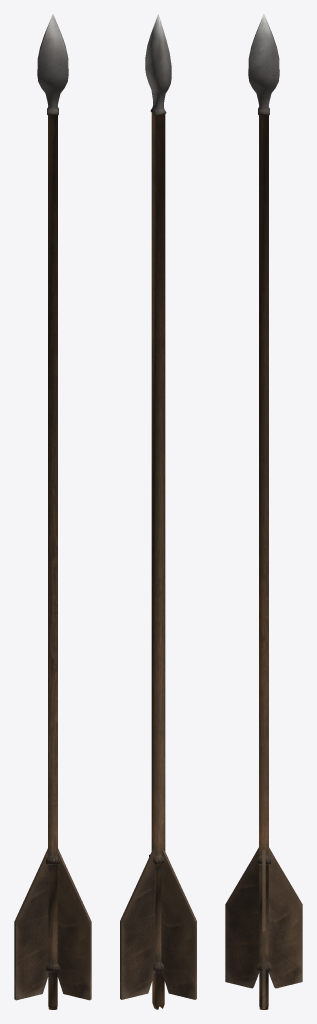
The model's file is Arrow.fbx.
3 renders of one model, left to right at view 1: azimuth 90°, elevation 25°; view 2: azimuth 210°, elevation 25°; view 3: azimuth 270°, elevation 25°, orthographic.
Parts seen in each view (by area): view 1: Arrow_001; view 2: Arrow_001; view 3: Arrow_001.
Part boxes in pixels (box(x1,y1,x2,y2)): Arrow_001: box(14, 14, 91, 1009); Arrow_001: box(120, 14, 196, 1009); Arrow_001: box(225, 14, 302, 1009).
Bounding box in the file's own units: 0.4311 × 7.09 × 0.4976.
